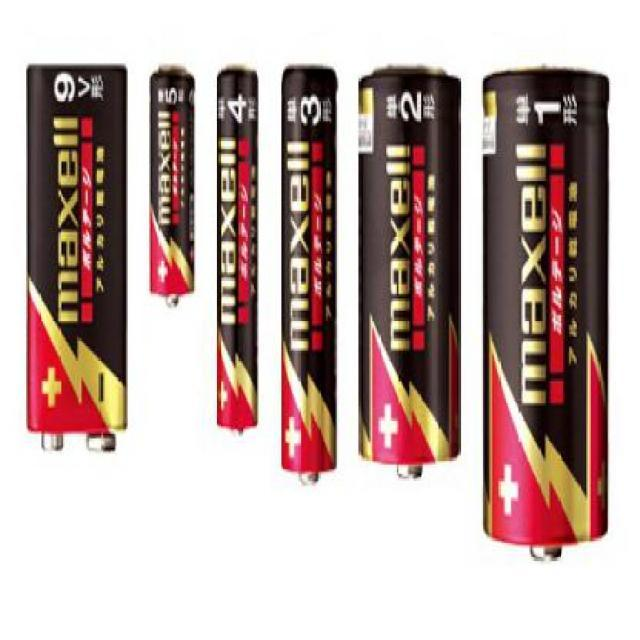hazardous waste: (477, 61, 612, 574), (349, 46, 463, 489), (269, 55, 342, 491), (204, 46, 264, 443), (146, 60, 202, 311)
